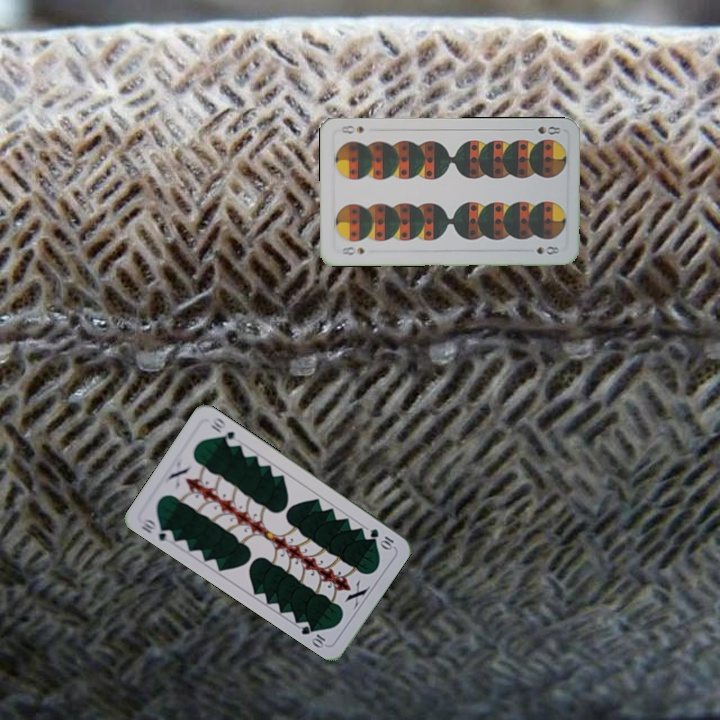G10: (137, 515, 176, 545), (366, 524, 396, 552)
S8: (523, 122, 563, 137), (337, 242, 367, 258)
